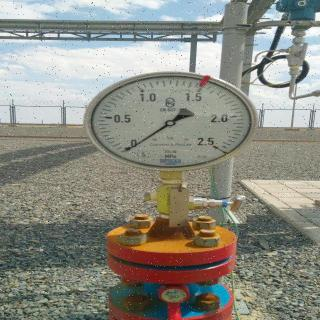gauge: (84, 71, 258, 171), (204, 137, 226, 155), (118, 139, 138, 157), (121, 148, 130, 154), (166, 120, 174, 126)
